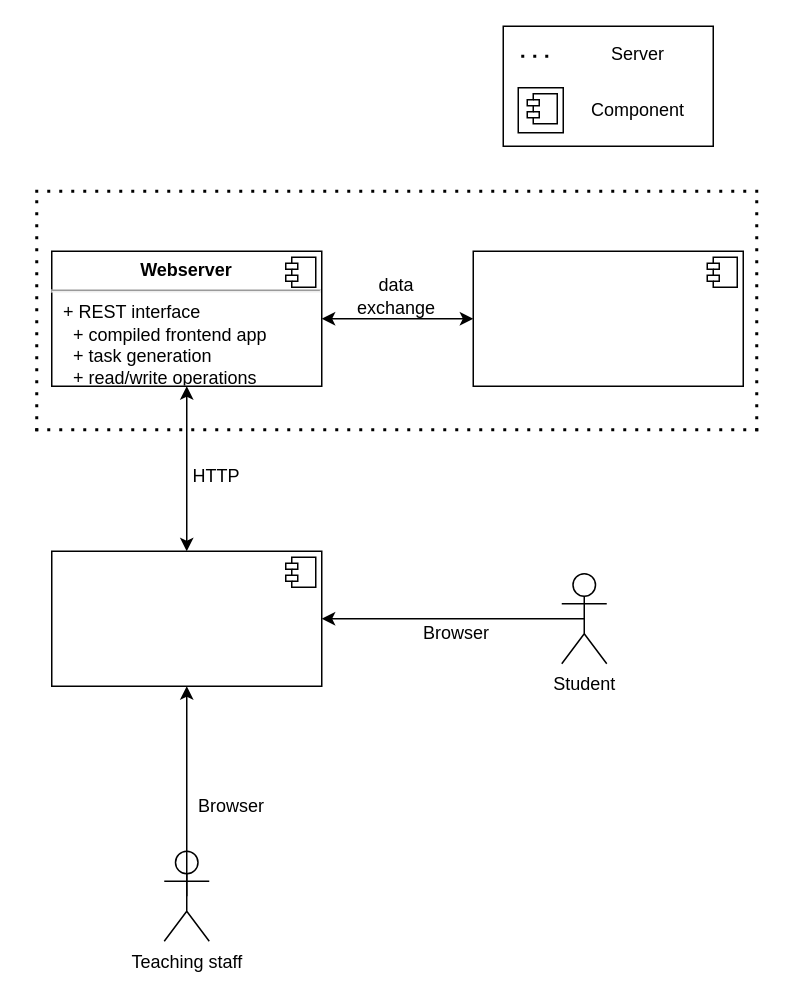
This 786x999 diagram has some shape labels left out. Here are the shapes that lost their labels. From the top down, the box of each, then its label:
(472, 250, 743, 386): MongoDB + userdata + metadata/statistics + tracked user sessions
(50, 550, 322, 686): Client + UI + fixed solution paths + singular perspective
